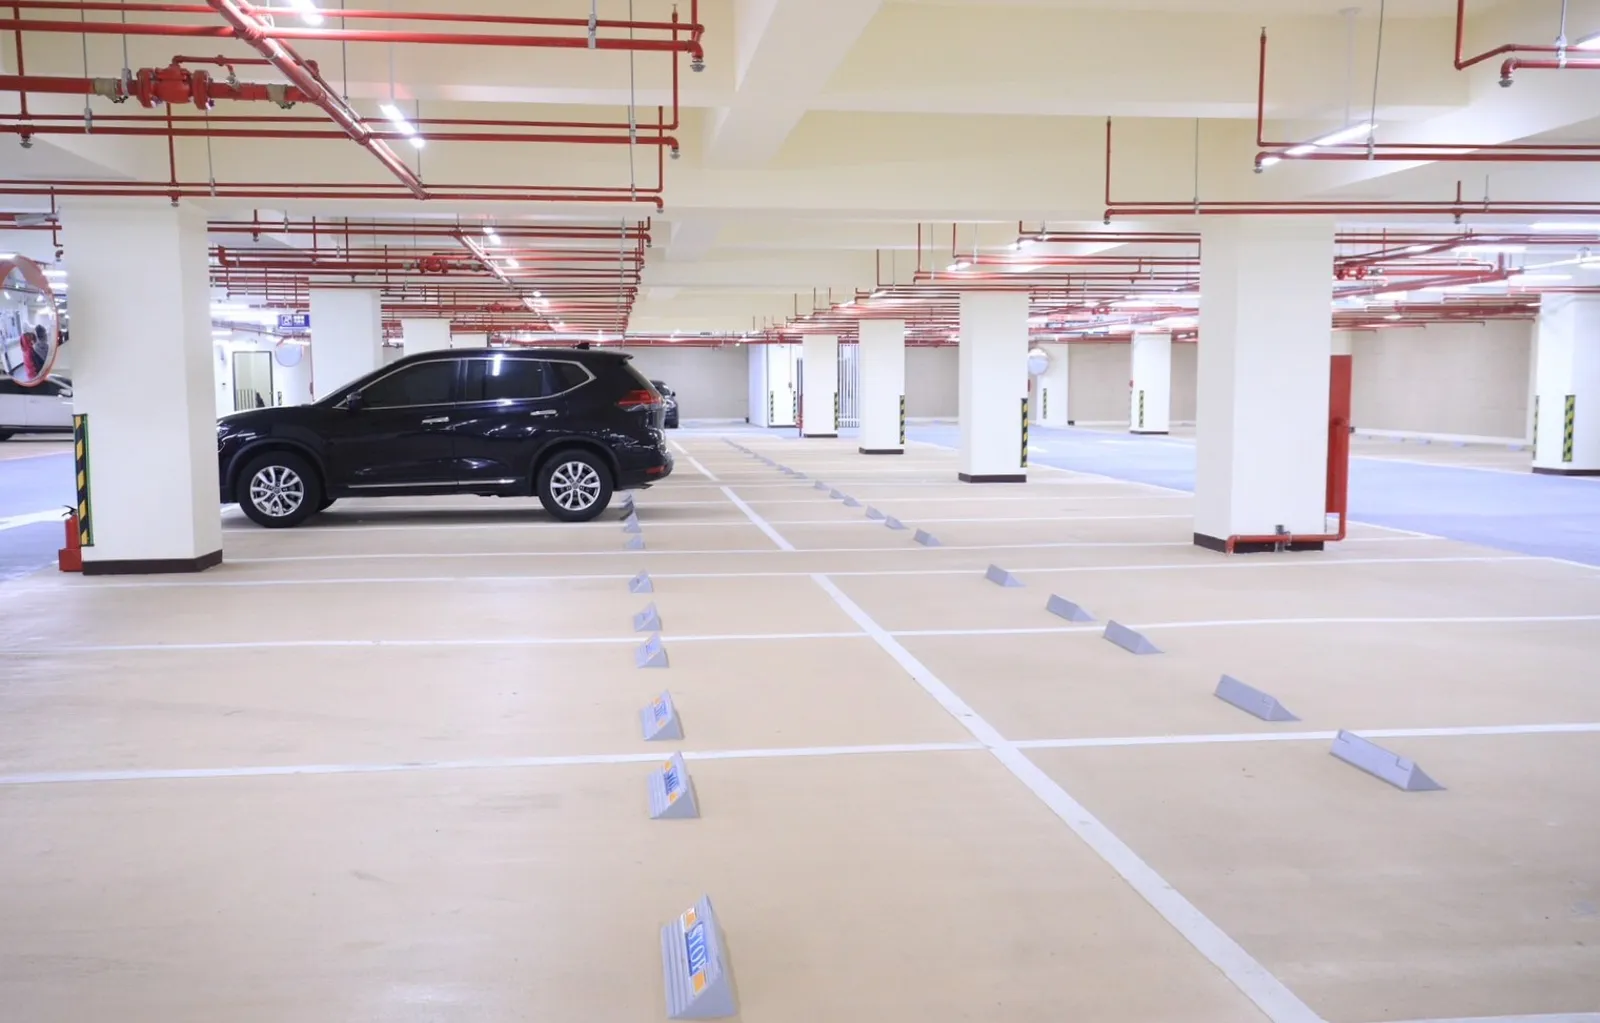car: (212, 321, 673, 528), (1, 369, 72, 443)
